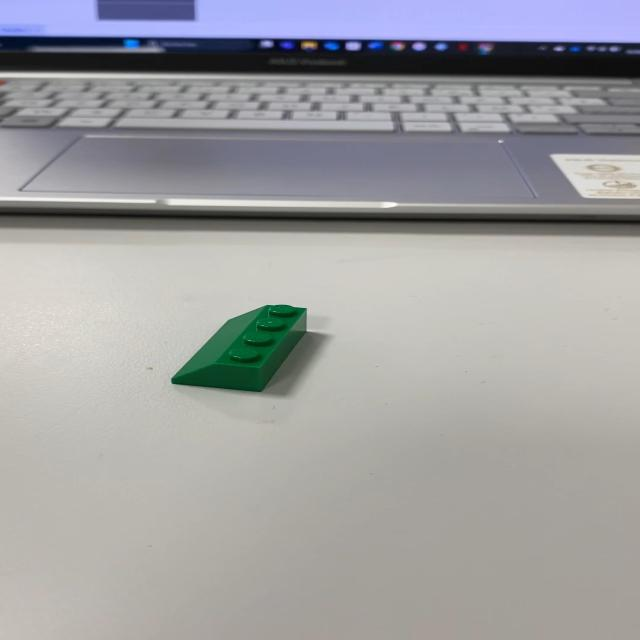P4x2x1: (170, 303, 308, 392)
